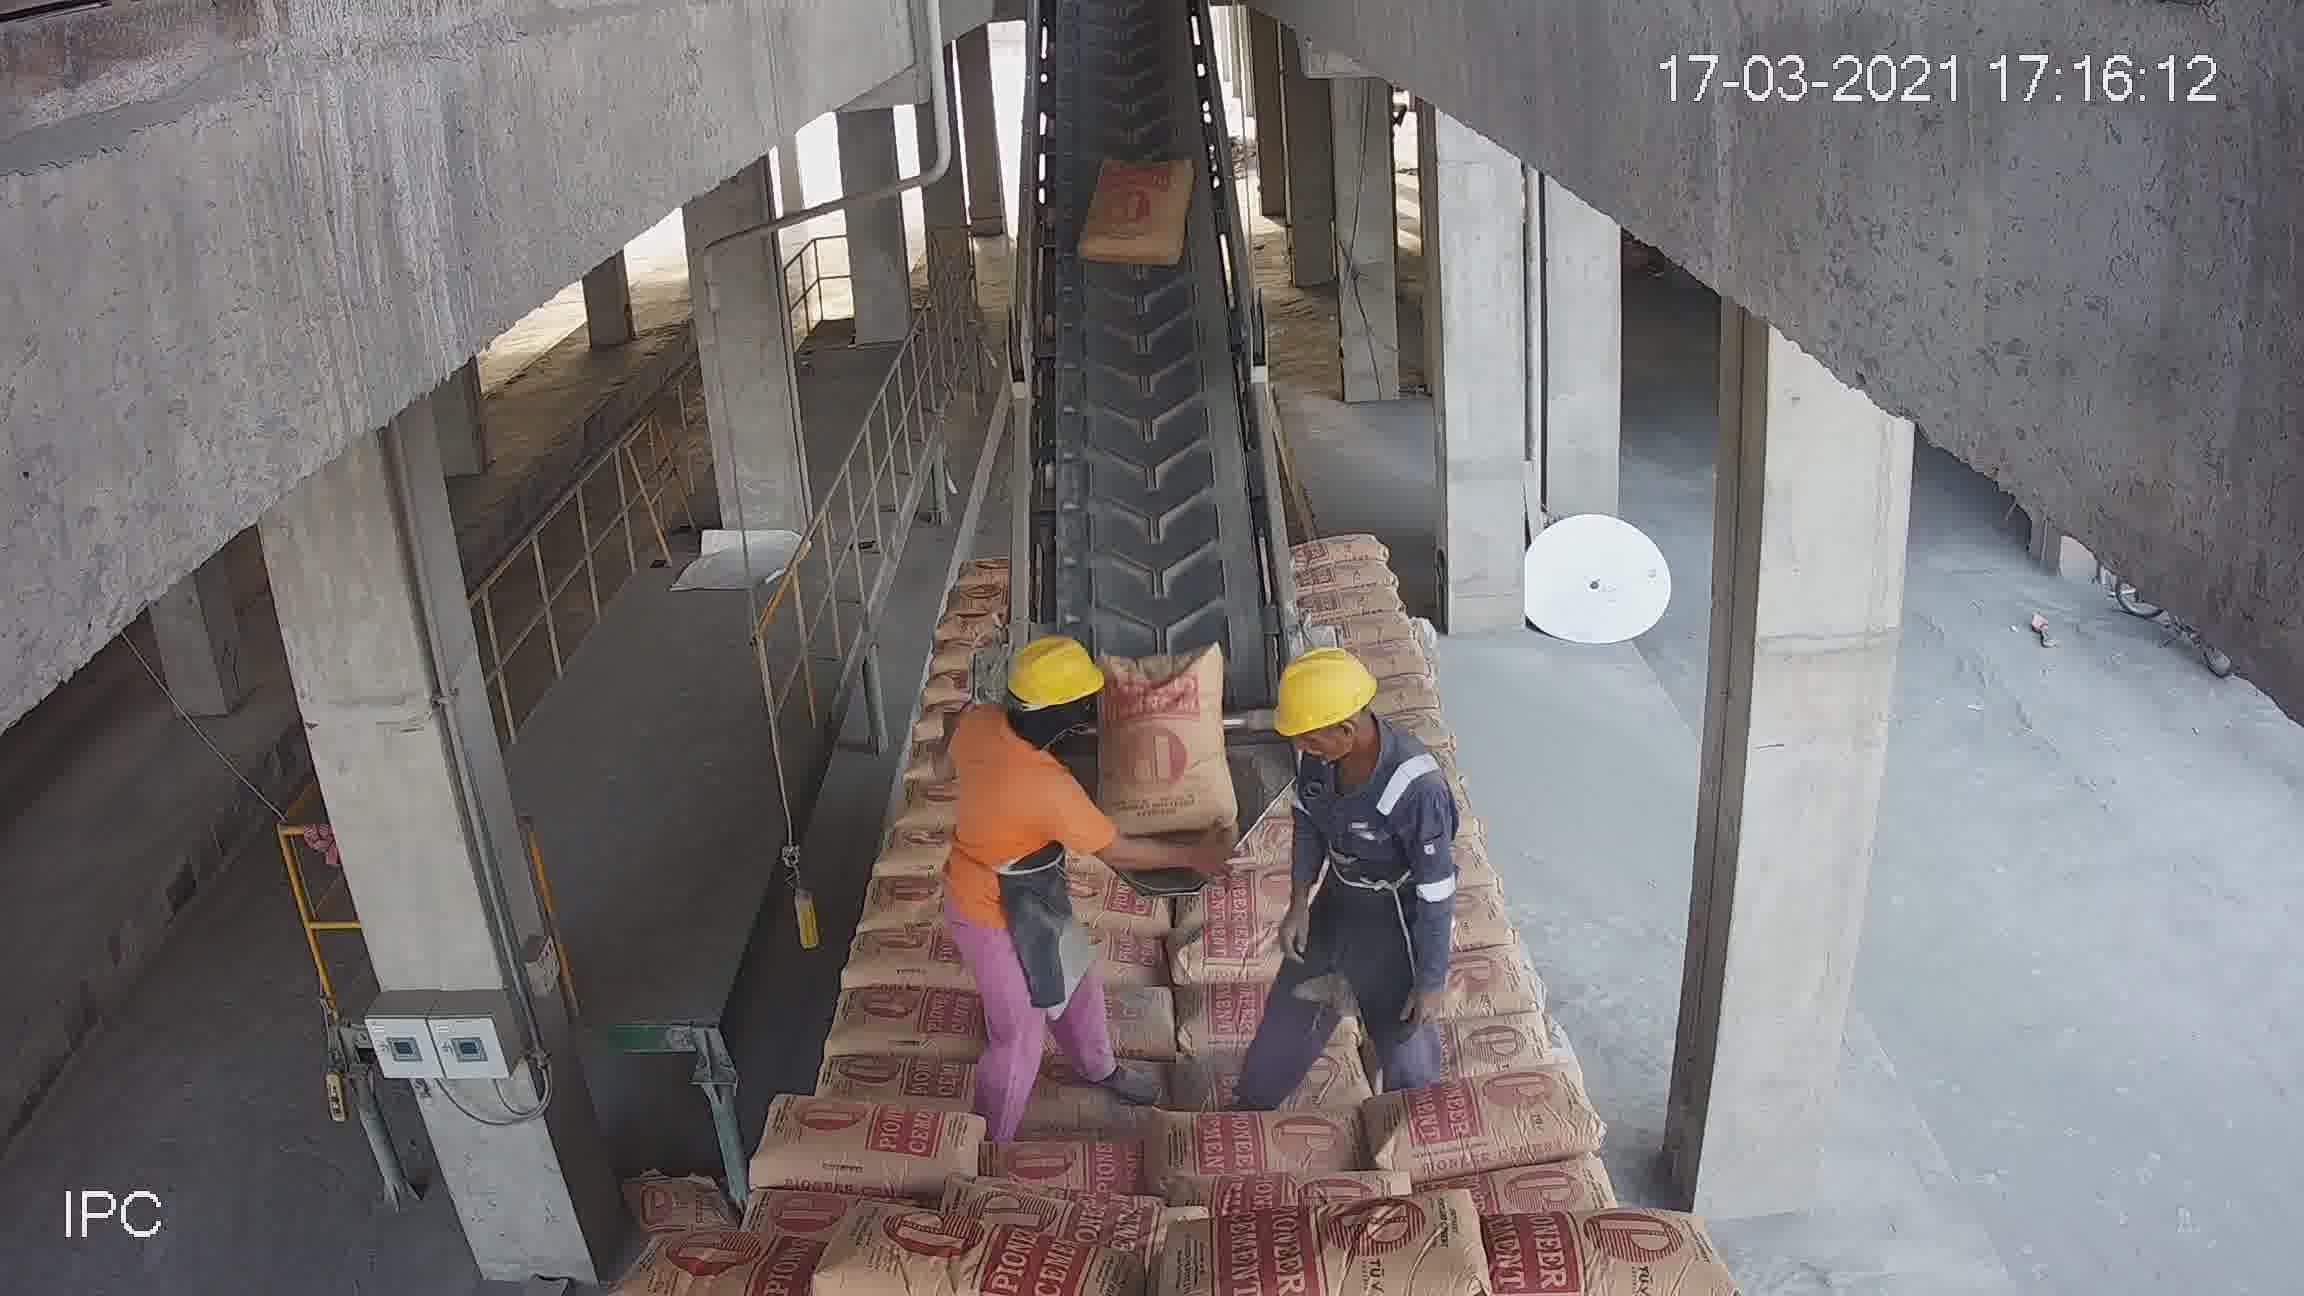bag: (1101, 647, 1234, 826), (1086, 153, 1203, 267)
bag_h: (1361, 1067, 1605, 1187), (804, 1218, 1128, 1294), (747, 1100, 994, 1196), (1141, 1097, 1367, 1192), (638, 1230, 847, 1296), (821, 1040, 983, 1112), (828, 984, 978, 1062), (1435, 991, 1557, 1086), (1152, 915, 1274, 991), (839, 923, 953, 989), (1280, 525, 1397, 570), (1293, 559, 1396, 597)
belt: (997, 0, 1294, 851)
